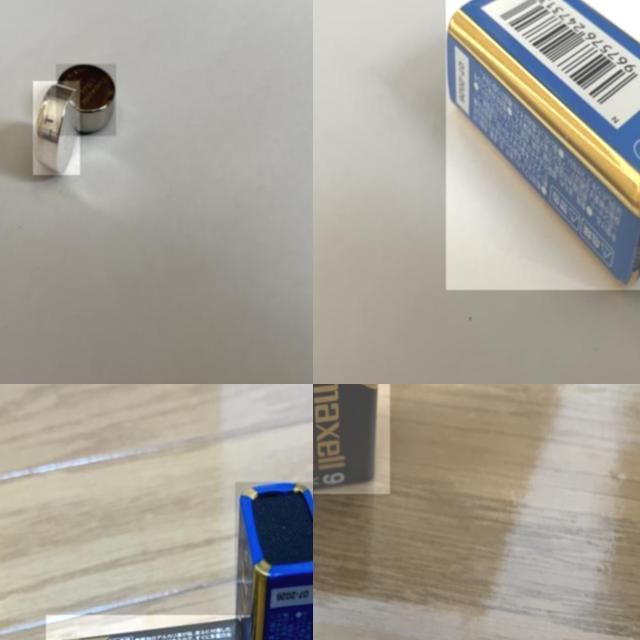9V: (446, 0, 640, 290), (235, 482, 313, 640), (313, 384, 390, 494)
